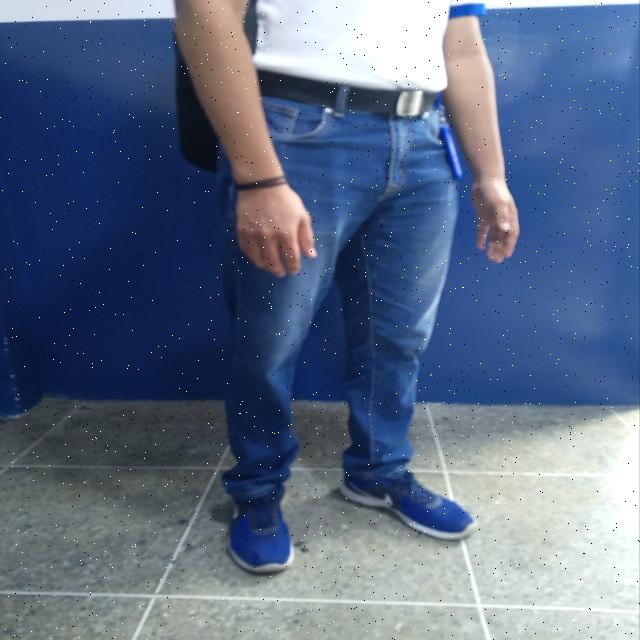pantalon_oscuro: (214, 94, 458, 508)
